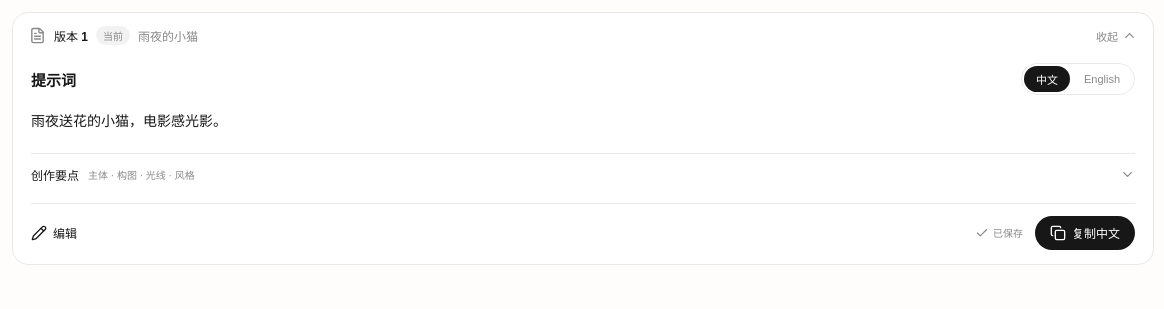
Test: version-specific creation result › reports clipboard permission failures without exposing raw browser errors
Click the button "复制中文": (1085, 233) [1035,216,1135,250]
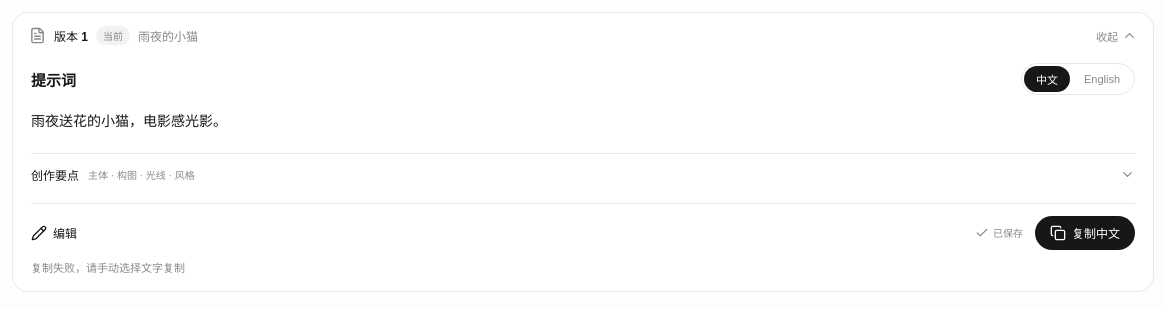
Check: the message reads "复制失败，请手动选择文字复制", box [31,262,185,274]
